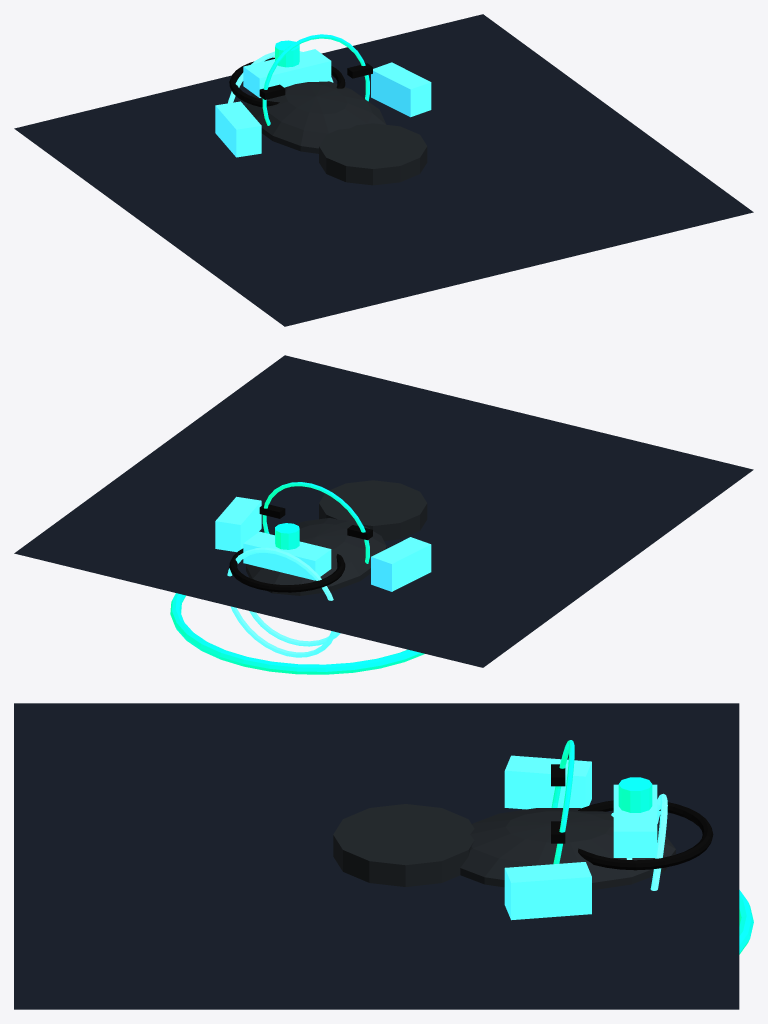
File: avatar_mnd_watashi.glb
3 renders of one model, top to bottom at view 1: azimuth 30°, elevation 25°; view 2: azimuth 150°, elevation 25°; view 3: azimuth 270°, elevation 25°, orthographic. The views are drawn at different scales.
Visible parts, largest first — view 1: SOL, MASQUE, SOCLE, JOUE_D, FRONT, JOUE_G, LISERE, ANNEAU_KANJI; view 2: SOL, SOCLE, MASQUE, ANNEAU_MND, JOUE_G, FRONT, JOUE_D, SIG_ANNEAU_0, ANNEAU_KANJI, LISERE, POINT_MND, SIG_ANNEAU_1; view 3: SOL, SOCLE, MASQUE, JOUE_D, JOUE_G, FRONT, ANNEAU_KANJI, POINT_MND, LISERE, SIG_ANNEAU_0, ANNEAU_MND.
Part boxes in pixels (left/top/right/bottom): SOL: left=14, top=14, right=753, bottom=326; MASQUE: left=246, top=81, right=386, bottom=153; SOCLE: left=319, top=123, right=427, bottom=185; JOUE_D: left=371, top=62, right=431, bottom=117; FRONT: left=243, top=49, right=331, bottom=97; JOUE_G: left=215, top=101, right=261, bottom=157; LISERE: left=262, top=34, right=369, bottom=125; ANNEAU_KANJI: left=229, top=57, right=345, bottom=107; SOL: left=14, top=355, right=753, bottom=667; SOCLE: left=319, top=480, right=427, bottom=540; MASQUE: left=246, top=518, right=386, bottom=595; ANNEAU_MND: left=170, top=593, right=424, bottom=674; JOUE_G: left=371, top=537, right=431, bottom=591; FRONT: left=243, top=531, right=331, bottom=580; JOUE_D: left=215, top=496, right=261, bottom=552; SIG_ANNEAU_0: left=227, top=547, right=335, bottom=657; ANNEAU_KANJI: left=229, top=548, right=345, bottom=592; LISERE: left=262, top=482, right=369, bottom=563; POINT_MND: left=275, top=523, right=299, bottom=549; SIG_ANNEAU_1: left=249, top=611, right=340, bottom=646; SOL: left=14, top=703, right=739, bottom=1009; SOCLE: left=333, top=804, right=474, bottom=886; MASQUE: left=460, top=808, right=675, bottom=890; JOUE_D: left=504, top=862, right=591, bottom=920; JOUE_G: left=504, top=755, right=591, bottom=809; FRONT: left=613, top=784, right=657, bottom=857; ANNEAU_KANJI: left=578, top=800, right=713, bottom=870; POINT_MND: left=618, top=777, right=652, bottom=812; LISERE: left=551, top=740, right=574, bottom=864; SIG_ANNEAU_0: left=650, top=793, right=667, bottom=890; ANNEAU_MND: left=739, top=890, right=753, bottom=954.
Bounding box in the file's own units: 6 × 1.89 × 6.12.
